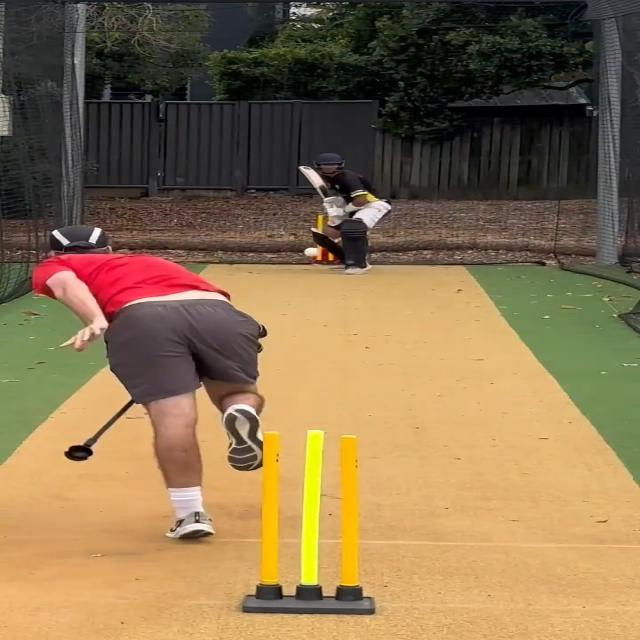ball: (304, 245, 324, 258)
stump: (241, 429, 377, 614)
